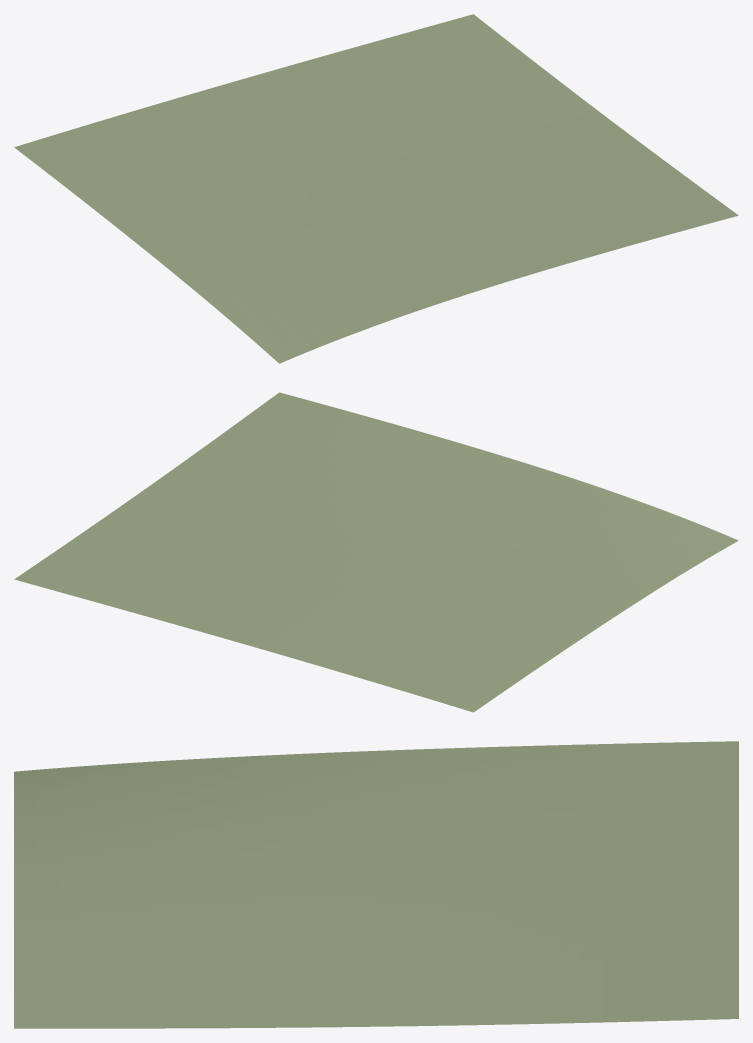
File: expanse-11-10.glb
3 views of the same model, one above another, from view 1: azimuth 30°, elevation 25°; view 2: azimuth 150°, elevation 25°; view 3: azimuth 270°, elevation 25° (orthographic). The views are drawn at different scales.
Parts seen in each view (by area): view 1: expanse-11-10; view 2: expanse-11-10; view 3: expanse-11-10.
Part boxes in pixels (left/top/right/bottom): expanse-11-10: left=14, top=14, right=738, bottom=363; expanse-11-10: left=14, top=392, right=738, bottom=712; expanse-11-10: left=14, top=741, right=738, bottom=1028.
Size of the model in its own units: 256 by 23.03 by 256.
